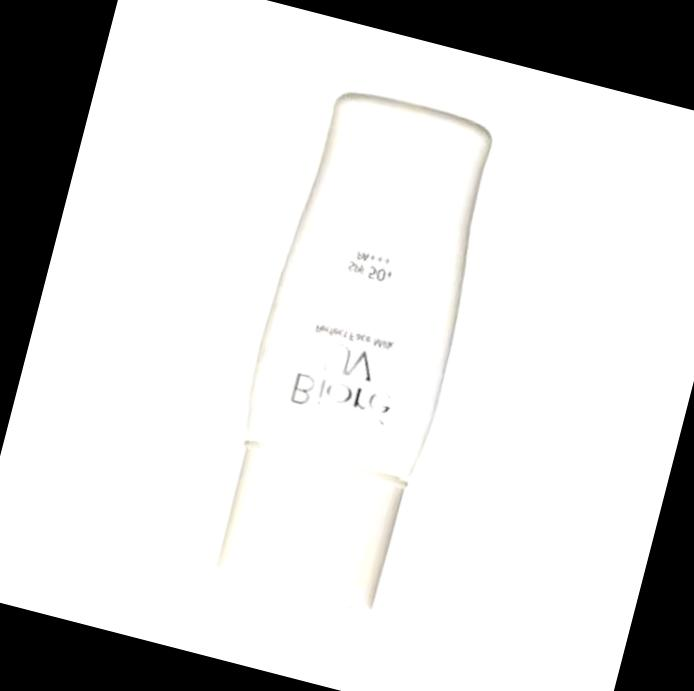cosmetic: (206, 82, 510, 619)
